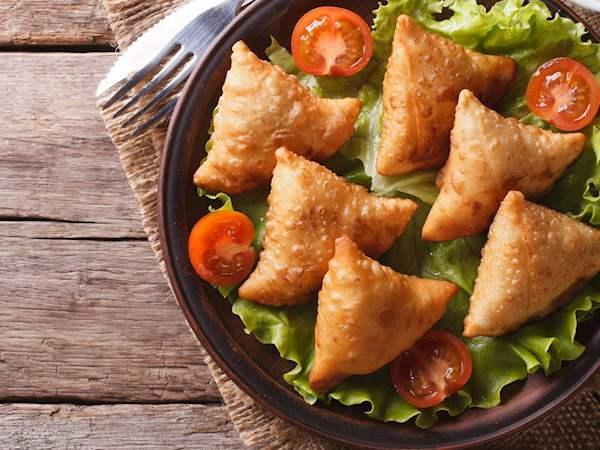samosa: (239, 148, 416, 305), (193, 41, 361, 193), (422, 90, 586, 240), (308, 237, 457, 391), (376, 15, 514, 175), (464, 191, 600, 337)
